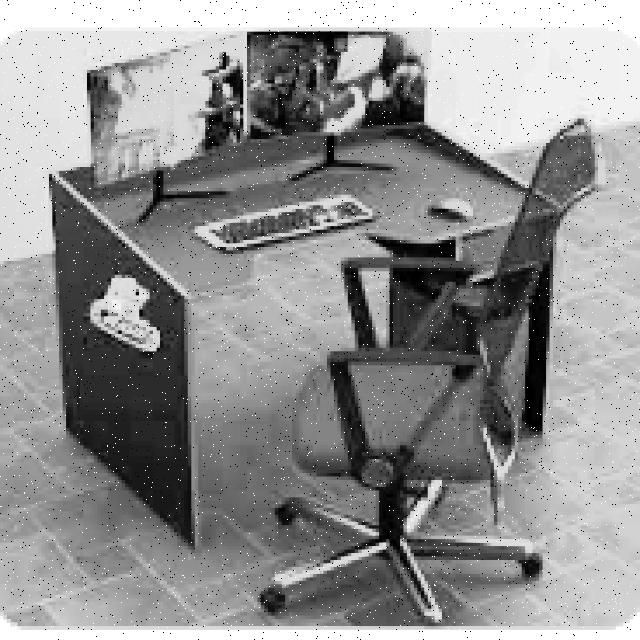table: (45, 118, 560, 553)
